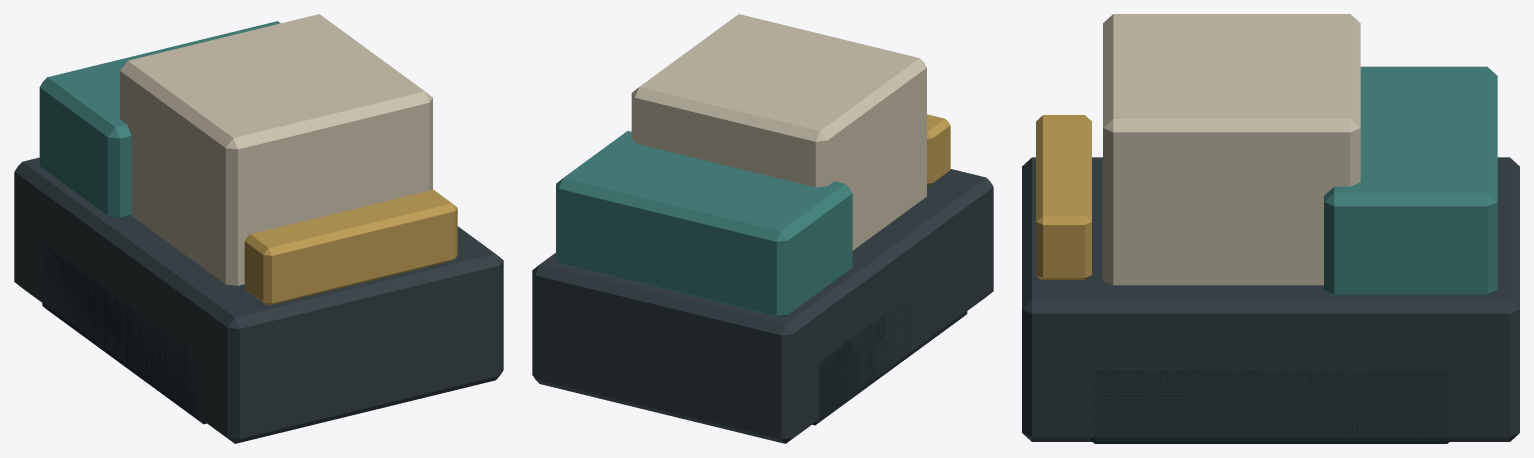
The model's file is pod-lod0.dba8bfea79e8.glb.
3 views of the same model, side by side, from view 1: azimuth 30°, elevation 25°; view 2: azimuth 150°, elevation 25°; view 3: azimuth 270°, elevation 25° (orthographic). The views are drawn at different scales.
Visible parts, largest first — view 1: body, cargo; view 2: body, cargo; view 3: body, cargo.
Boxes of the visible parts, left/top/right/bottom form: body: left=14, top=21, right=503, bottom=443; cargo: left=120, top=14, right=432, bottom=285; body: left=532, top=114, right=993, bottom=443; cargo: left=631, top=14, right=926, bottom=250; body: left=1022, top=66, right=1519, bottom=443; cargo: left=1103, top=14, right=1360, bottom=285.
Bounding box in the file's own units: 0.64 × 0.6 × 0.89.
